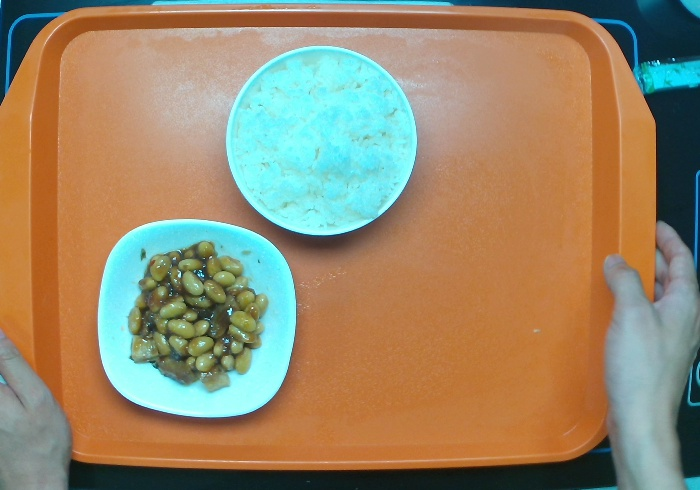ZNLD-Fan_Wan: (223, 44, 419, 241)
ZNLD-Si_Fang_Wan: (93, 217, 299, 421)
